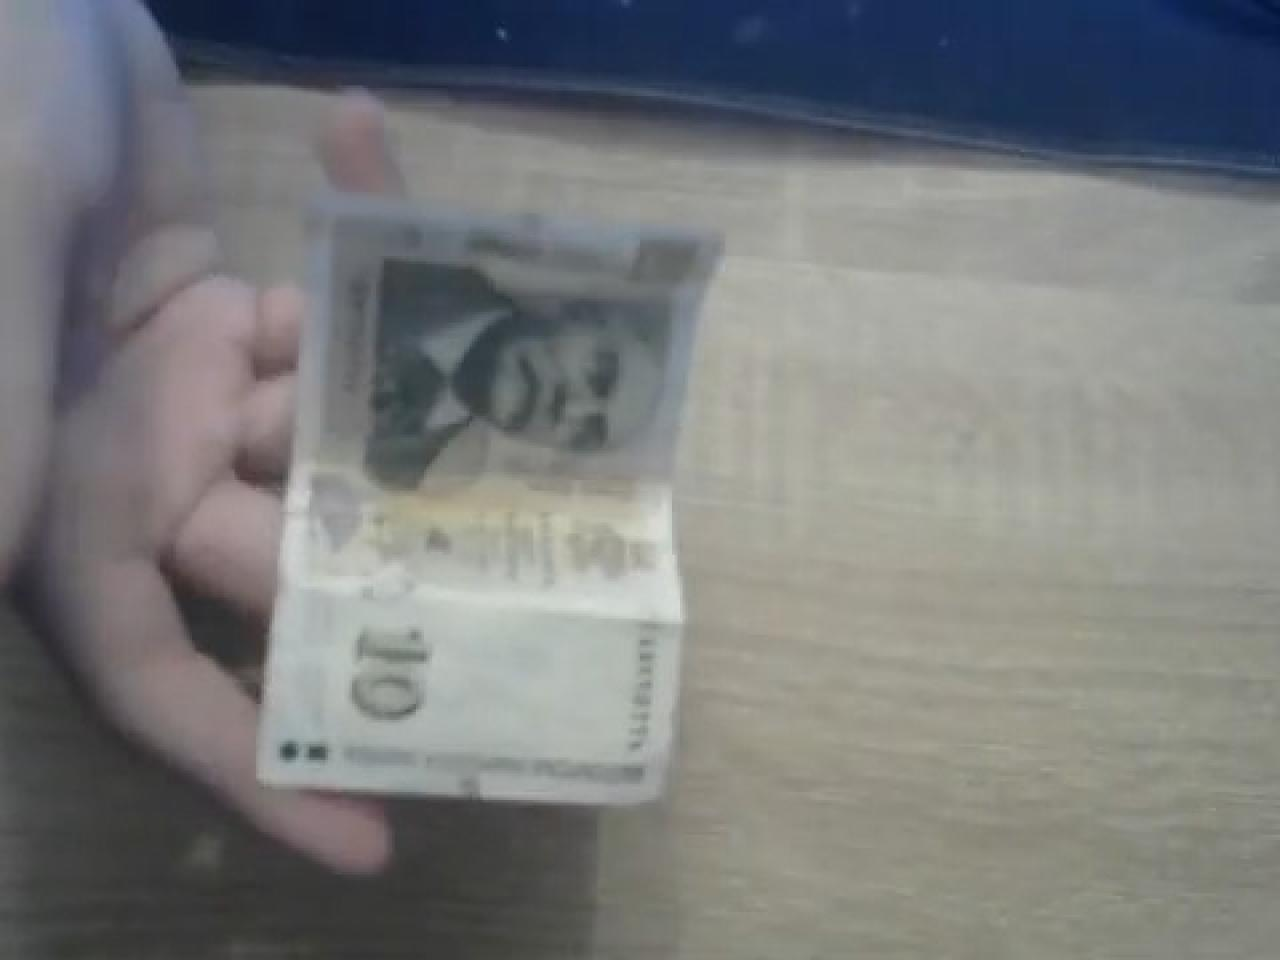10leva: (253, 184, 725, 813)
